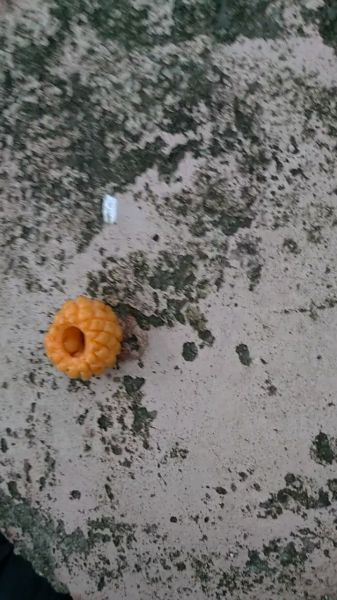eggs: (40, 292, 124, 381)
